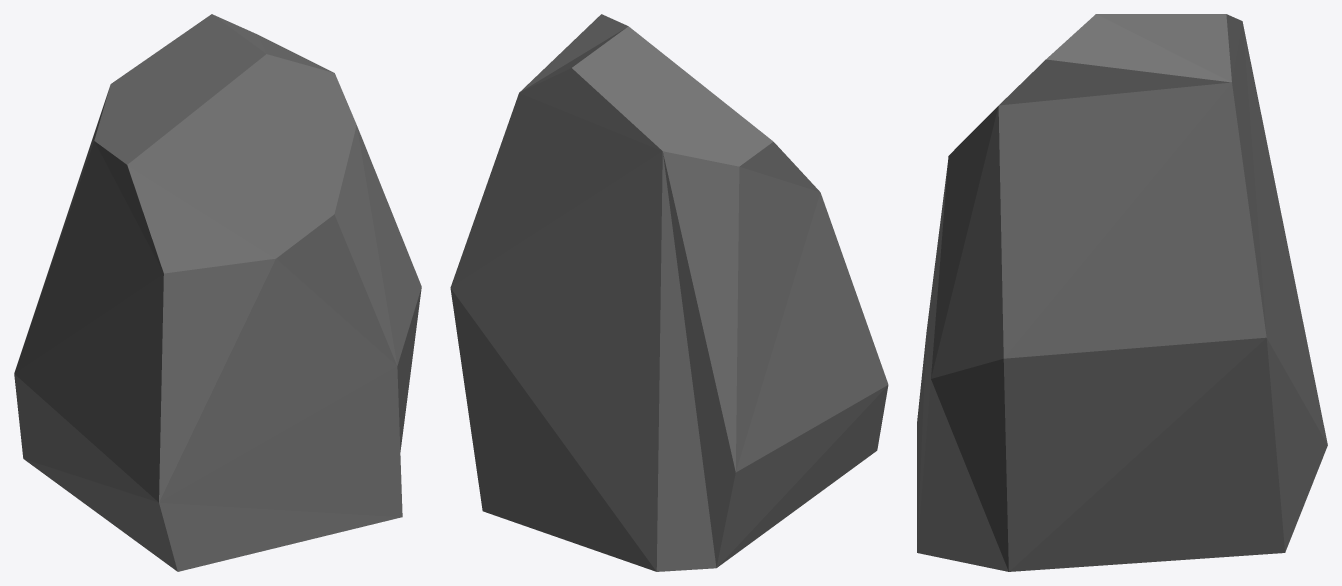
The model's file is Stone_A_14.FBX.
The picture shows the model from 3 angles, left to right: view 1: azimuth 30°, elevation 25°; view 2: azimuth 150°, elevation 25°; view 3: azimuth 270°, elevation 25°; orthographic projection. The views are drawn at different scales.
Visible parts, largest first — view 1: Stone_A_14; view 2: Stone_A_14; view 3: Stone_A_14.
Boxes of the visible parts, <box> form: Stone_A_14: <box>14,14,421,571</box>; Stone_A_14: <box>450,14,888,571</box>; Stone_A_14: <box>917,14,1327,571</box>.
Size of the model in its own units: 2.98 by 4.08 by 3.01.
